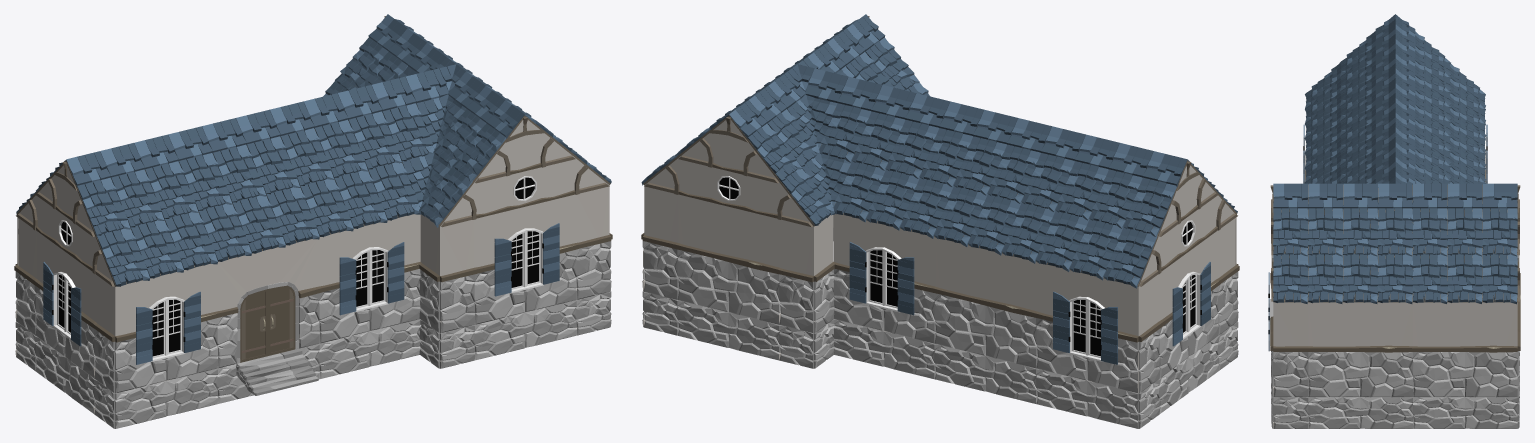
File: house_9.fbx
The picture shows the model from 3 angles, left to right: view 1: azimuth 30°, elevation 25°; view 2: azimuth 150°, elevation 25°; view 3: azimuth 270°, elevation 25°; orthographic projection. The views are drawn at different scales.
Parts seen in each view (by area): view 1: WINDOW_03_2, DOOR_04_5, WINDOW_03_1_rig15, WINDOW_03_1_rig14, WINDOW_03_1_r1, FOUNDATION_01_4, FOUNDATION_01_6, FOUNDATION_01_3, WALL_04_31, WALL_04_32, STAIRS_03_2, WALL_04_38 (+64 smaller); view 2: WINDOW_03_4, WALL_01_10, WALL_01_11, WINDOW_03_3, WINDOW_03_1_r1, FOUNDATION_01_7, FOUNDATION_01_10, FOUNDATION_01_8, FOUNDATION_01_5, WALL_04_35, WALL_04_34, WALL_04_37 (+63 smaller); view 3: WALL_01_12, WALL_01_13, FOUNDATION_01_11, FOUNDATION_01_12, WALL_04_33, ROOF_base_40, ROOF_base_53, ROOF_base_43, ROOF_base_51, ROOF_base_45, ROOF_base_47, ROOF_base_49 (+72 smaller).
Part boxes in pixels (bbox=[...]): WINDOW_03_2: bbox=[114, 263, 218, 393]; DOOR_04_5: bbox=[217, 239, 320, 368]; WINDOW_03_1_rig15: bbox=[318, 214, 420, 343]; WINDOW_03_1_rig14: bbox=[474, 194, 577, 324]; WINDOW_03_1_r1: bbox=[34, 231, 95, 378]; FOUNDATION_01_4: bbox=[115, 368, 217, 428]; FOUNDATION_01_6: bbox=[474, 300, 576, 360]; FOUNDATION_01_3: bbox=[318, 319, 420, 379]; WALL_04_31: bbox=[439, 220, 475, 333]; WALL_04_32: bbox=[575, 187, 611, 299]; STAIRS_03_2: bbox=[236, 348, 318, 395]; WALL_04_38: bbox=[92, 274, 117, 393]; WINDOW_03_4: bbox=[1035, 262, 1139, 393]; WALL_01_10: bbox=[933, 237, 1036, 368]; WALL_01_11: bbox=[676, 194, 779, 324]; WINDOW_03_3: bbox=[833, 214, 935, 343]; WINDOW_03_1_r1: bbox=[1158, 231, 1219, 378]; FOUNDATION_01_7: bbox=[1036, 368, 1139, 428]; FOUNDATION_01_10: bbox=[677, 300, 780, 360]; FOUNDATION_01_8: bbox=[934, 344, 1037, 403]; FOUNDATION_01_5: bbox=[833, 319, 935, 379]; WALL_04_35: bbox=[778, 220, 814, 333]; WALL_04_34: bbox=[642, 187, 678, 299]; WALL_04_37: bbox=[1136, 274, 1161, 393]; WALL_01_12: bbox=[1308, 302, 1412, 397]; WALL_01_13: bbox=[1413, 302, 1517, 397]; FOUNDATION_01_11: bbox=[1413, 397, 1517, 428]; FOUNDATION_01_12: bbox=[1308, 397, 1412, 428]; WALL_04_33: bbox=[1273, 302, 1308, 397]; ROOF_base_40: bbox=[1273, 253, 1308, 303]; ROOF_base_53: bbox=[1482, 253, 1517, 304]; ROOF_base_43: bbox=[1308, 253, 1343, 303]; ROOF_base_51: bbox=[1447, 253, 1482, 303]; ROOF_base_45: bbox=[1342, 253, 1378, 303]; ROOF_base_47: bbox=[1377, 253, 1412, 303]; ROOF_base_49: bbox=[1412, 253, 1447, 303].
Bounding box in the file's own units: 1424 × 659 × 723.
